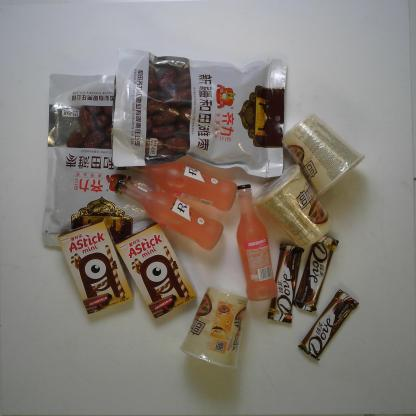Alcohol: (114, 178, 224, 250), (118, 148, 237, 212), (236, 182, 278, 303)
Chocolate: (296, 287, 359, 361), (292, 234, 340, 313), (265, 242, 305, 325)
Dessert: (115, 223, 197, 320), (57, 219, 133, 316)
Dried Food: (40, 71, 173, 254), (112, 47, 287, 178)
Instant Noodles: (280, 114, 365, 197), (252, 165, 332, 247), (180, 286, 248, 368)
